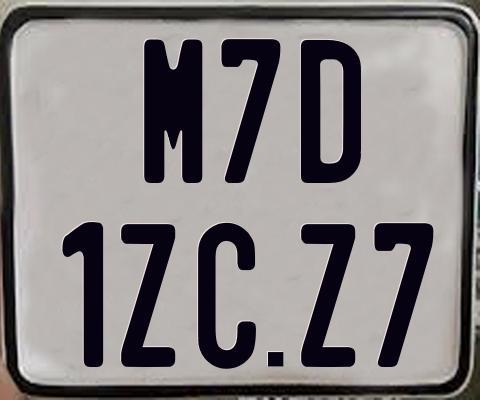1: (60, 220, 101, 368)
7: (372, 223, 438, 370), (221, 38, 284, 188)
C: (198, 223, 261, 375)
D: (298, 39, 358, 187)
M: (143, 37, 205, 182)
Z: (299, 224, 355, 371), (121, 221, 175, 367)
